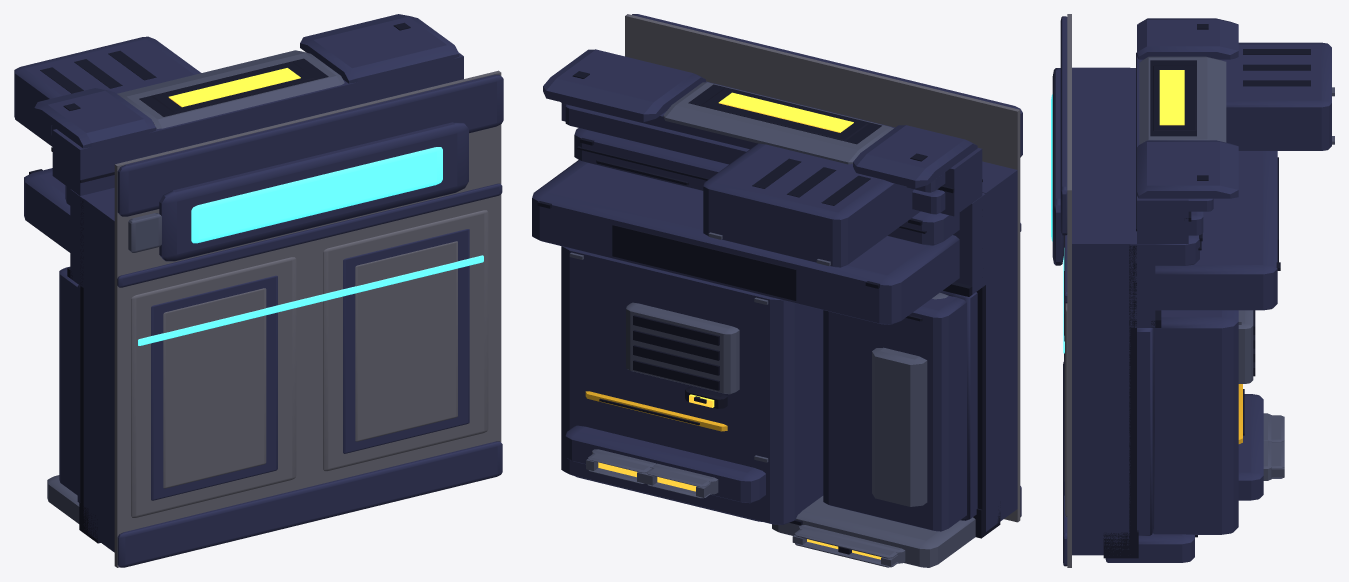
The model's file is hull.straight.a.glb.
3 views of the same model, side by side, from view 1: azimuth 30°, elevation 25°; view 2: azimuth 150°, elevation 25°; view 3: azimuth 270°, elevation 25° (orthographic). The views are drawn at different scales.
Visible parts, largest first — view 1: GEO-hull.straight.a; view 2: GEO-hull.straight.a; view 3: GEO-hull.straight.a.
Boxes of the visible parts, bbox=[...] form: GEO-hull.straight.a: bbox=[14, 14, 503, 567]; GEO-hull.straight.a: bbox=[532, 14, 1022, 567]; GEO-hull.straight.a: bbox=[1051, 14, 1334, 567].
Size of the model in its own units: 1 by 1 by 0.6807.
